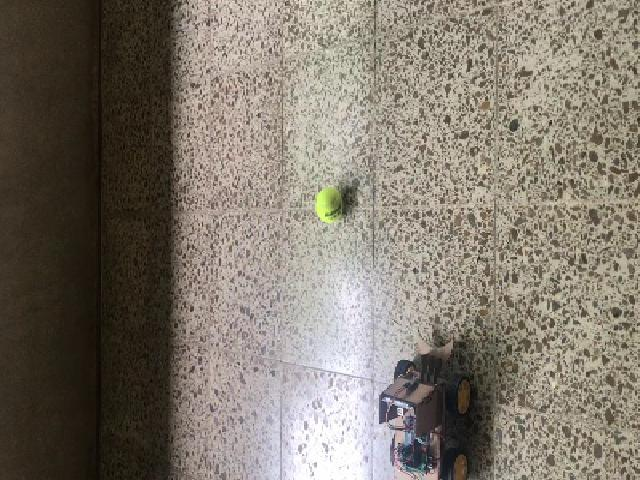Ball: (312, 187, 344, 222)
Robot: (376, 324, 472, 479)
